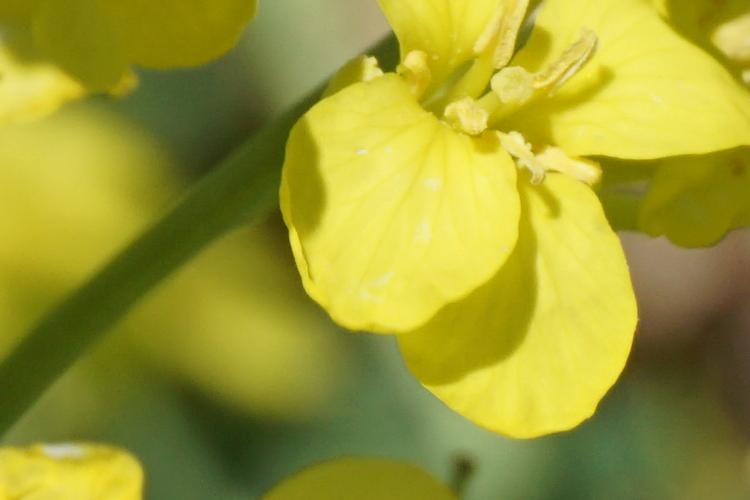yellow: (286, 12, 726, 422)
